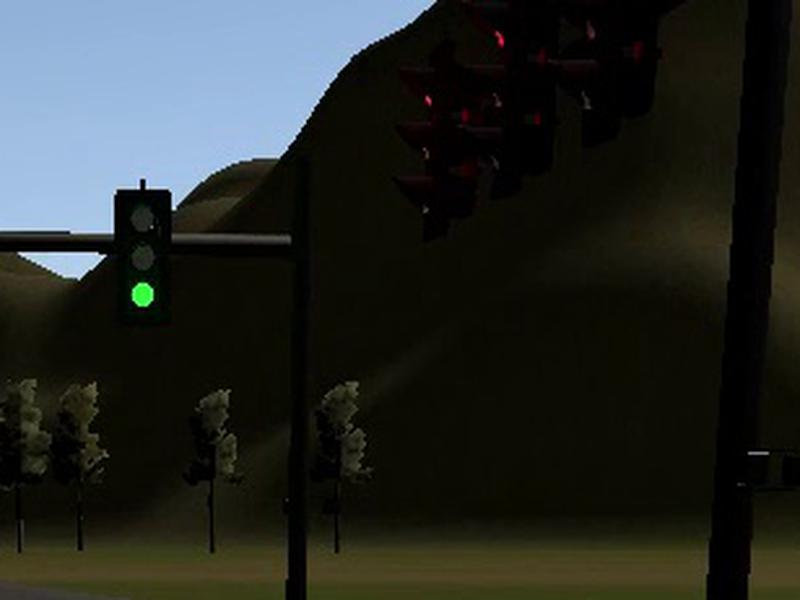Green: (113, 190, 170, 324)
